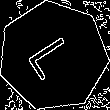L_NE: (24, 30, 83, 83)
